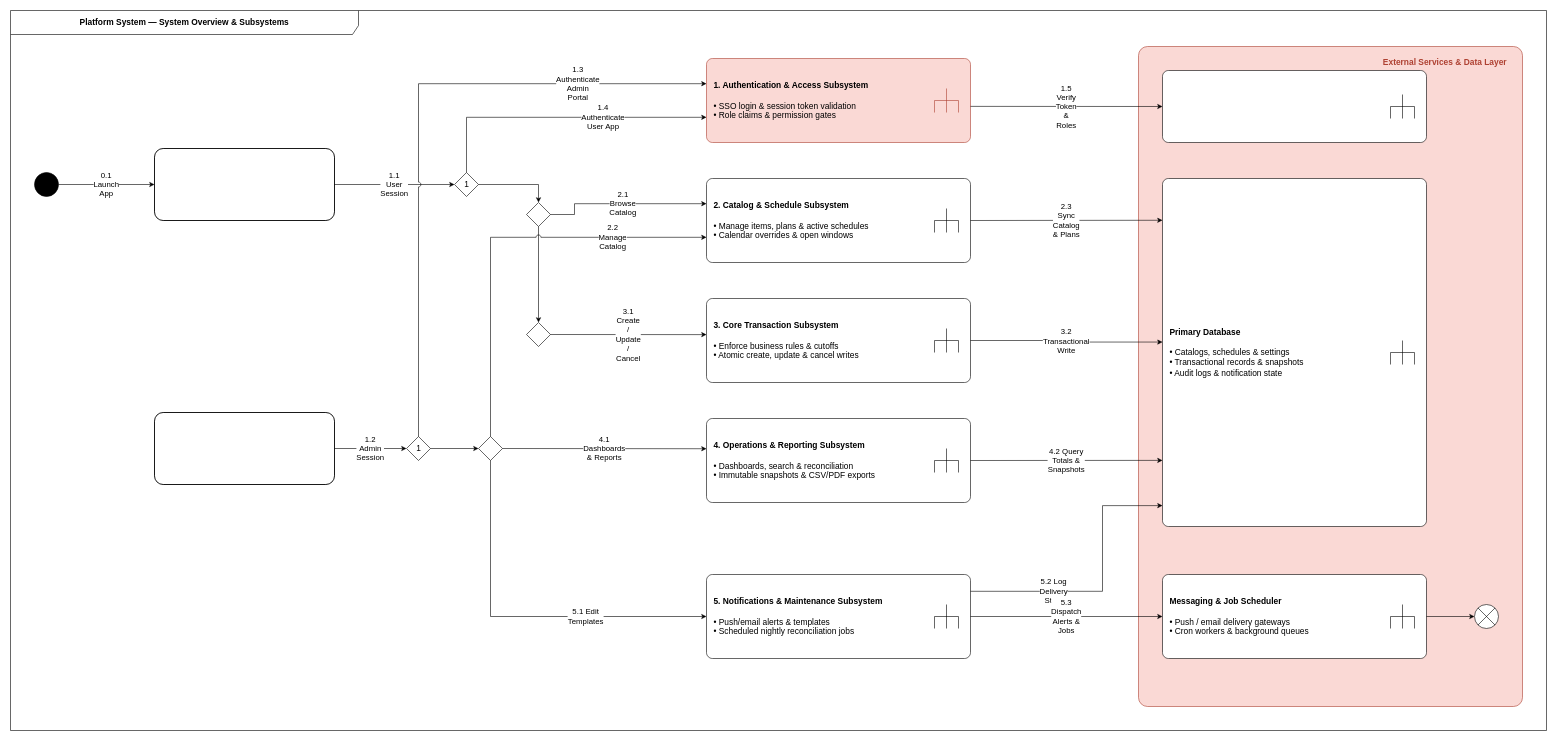
This 1557x741 diagram has some shape labels left out. The shapes that lost their labels are listed below. From the top down, each one's centre as x and y in pixels, then its label:
At pixel 1294 106: "Identity Provider • OAuth 2.0 / OIDC SSO • Token issuance & custom claims".
At pixel 244 184: "User Client Application Roles: End User, Operator".
At pixel 244 448: "Admin Web Portal Roles: System Admin, Auditor".
